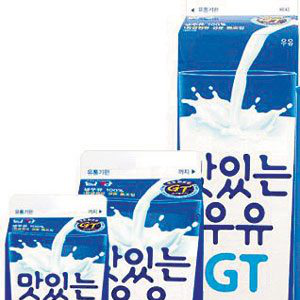milk: (176, 1, 300, 299), (81, 149, 203, 300), (4, 193, 109, 300)
